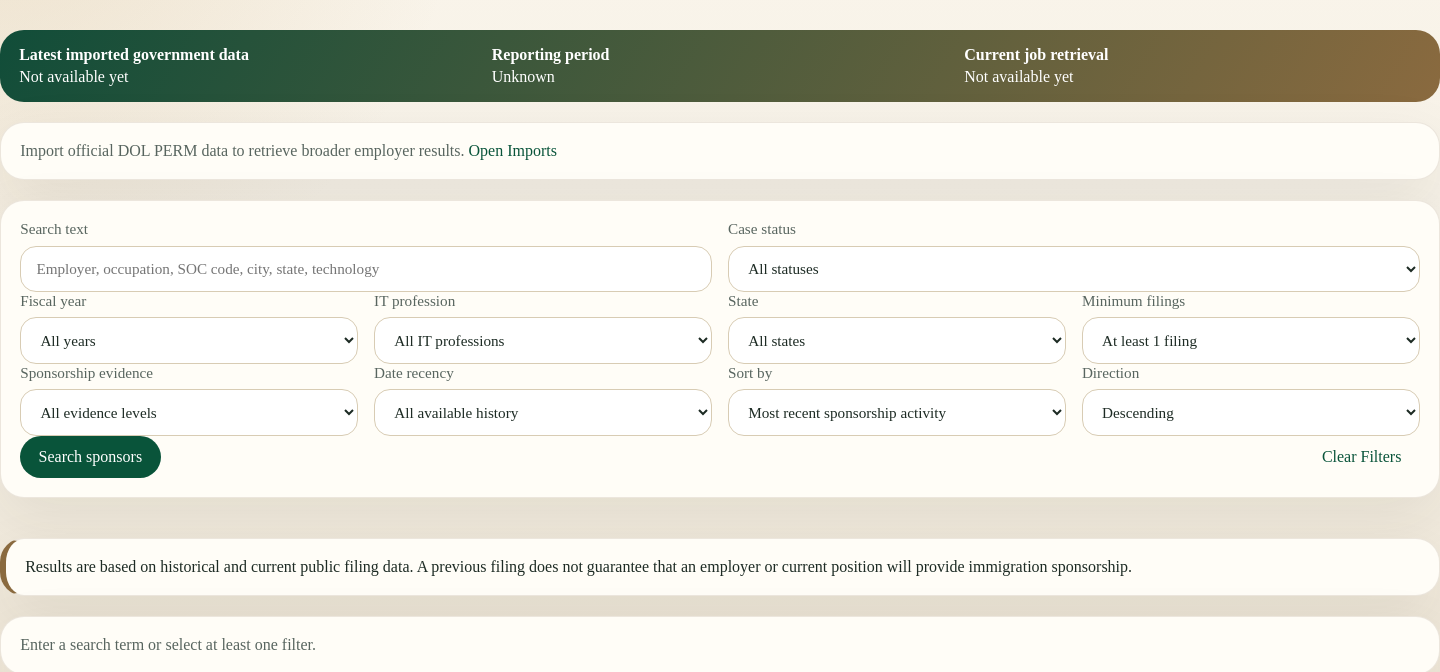
Test case: empty database state is shown correctly
The width and height of the screenshot is (1440, 672).
Type "Northwind" into the field with placeholder "Employer, occupation, SOC code, city, state, technology" at (366, 269), box [20, 246, 712, 292]
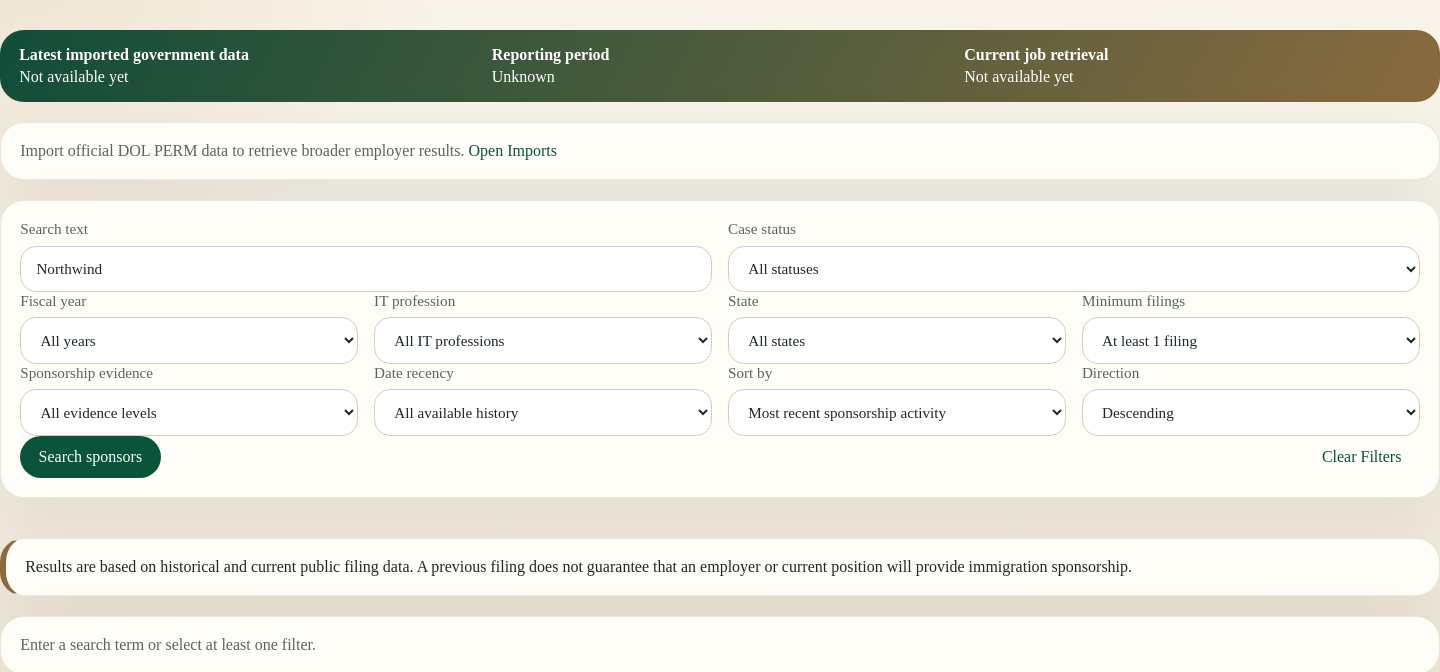
Click the button "Search sponsors" at (90, 457), box [20, 436, 160, 478]
(page scrolled)
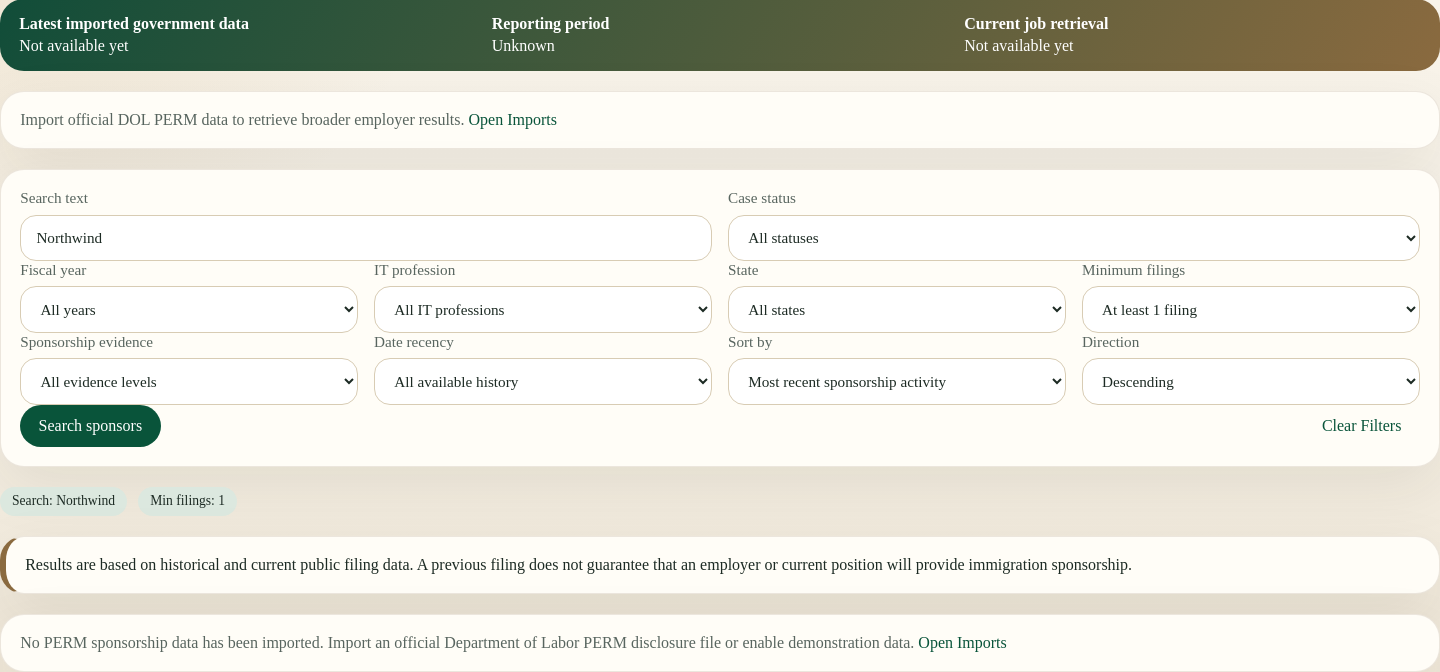
Check: the text "No PERM sponsorship data has been imported" is shown, box [20, 634, 914, 651]
